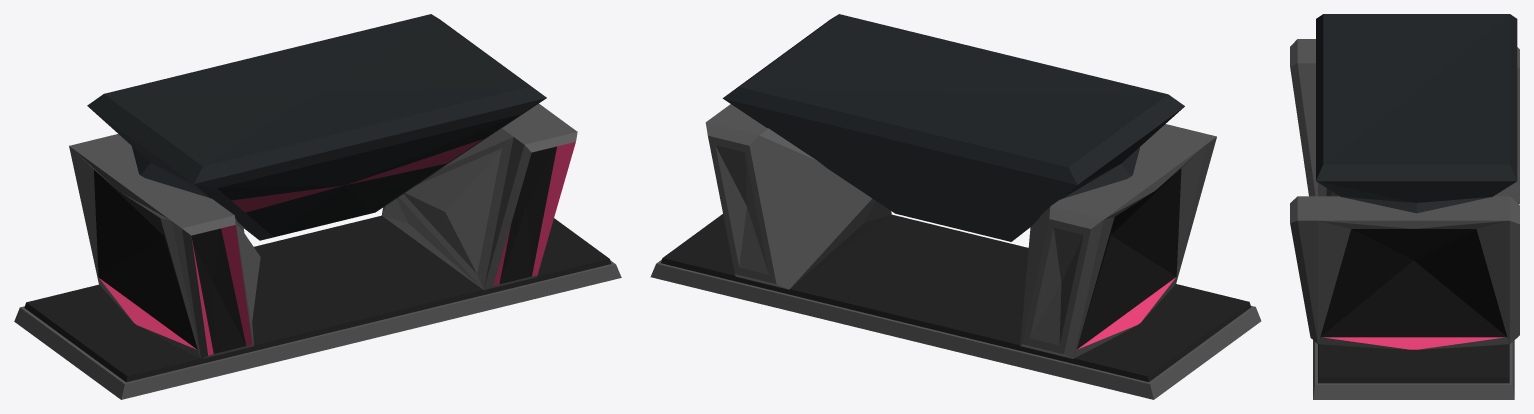
The model's file is altar_option_1.glb.
3 views of the same model, side by side, from view 1: azimuth 30°, elevation 25°; view 2: azimuth 150°, elevation 25°; view 3: azimuth 270°, elevation 25° (orthographic). The views are drawn at different scales.
Visible parts, largest first — view 1: Cube.003; view 2: Cube.003; view 3: Cube.003.
Boxes of the visible parts, x1,y1,x2,y2 form: Cube.003: (14,14,621,399); Cube.003: (650,14,1261,399); Cube.003: (1290,14,1519,399).
Bounding box in the file's own units: 5.4 × 2.15 × 2.28.
